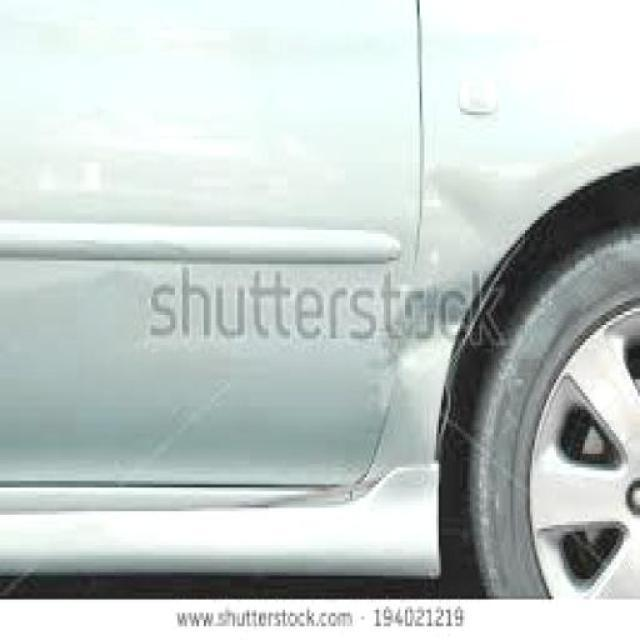Car-Damage: (358, 149, 598, 417)
